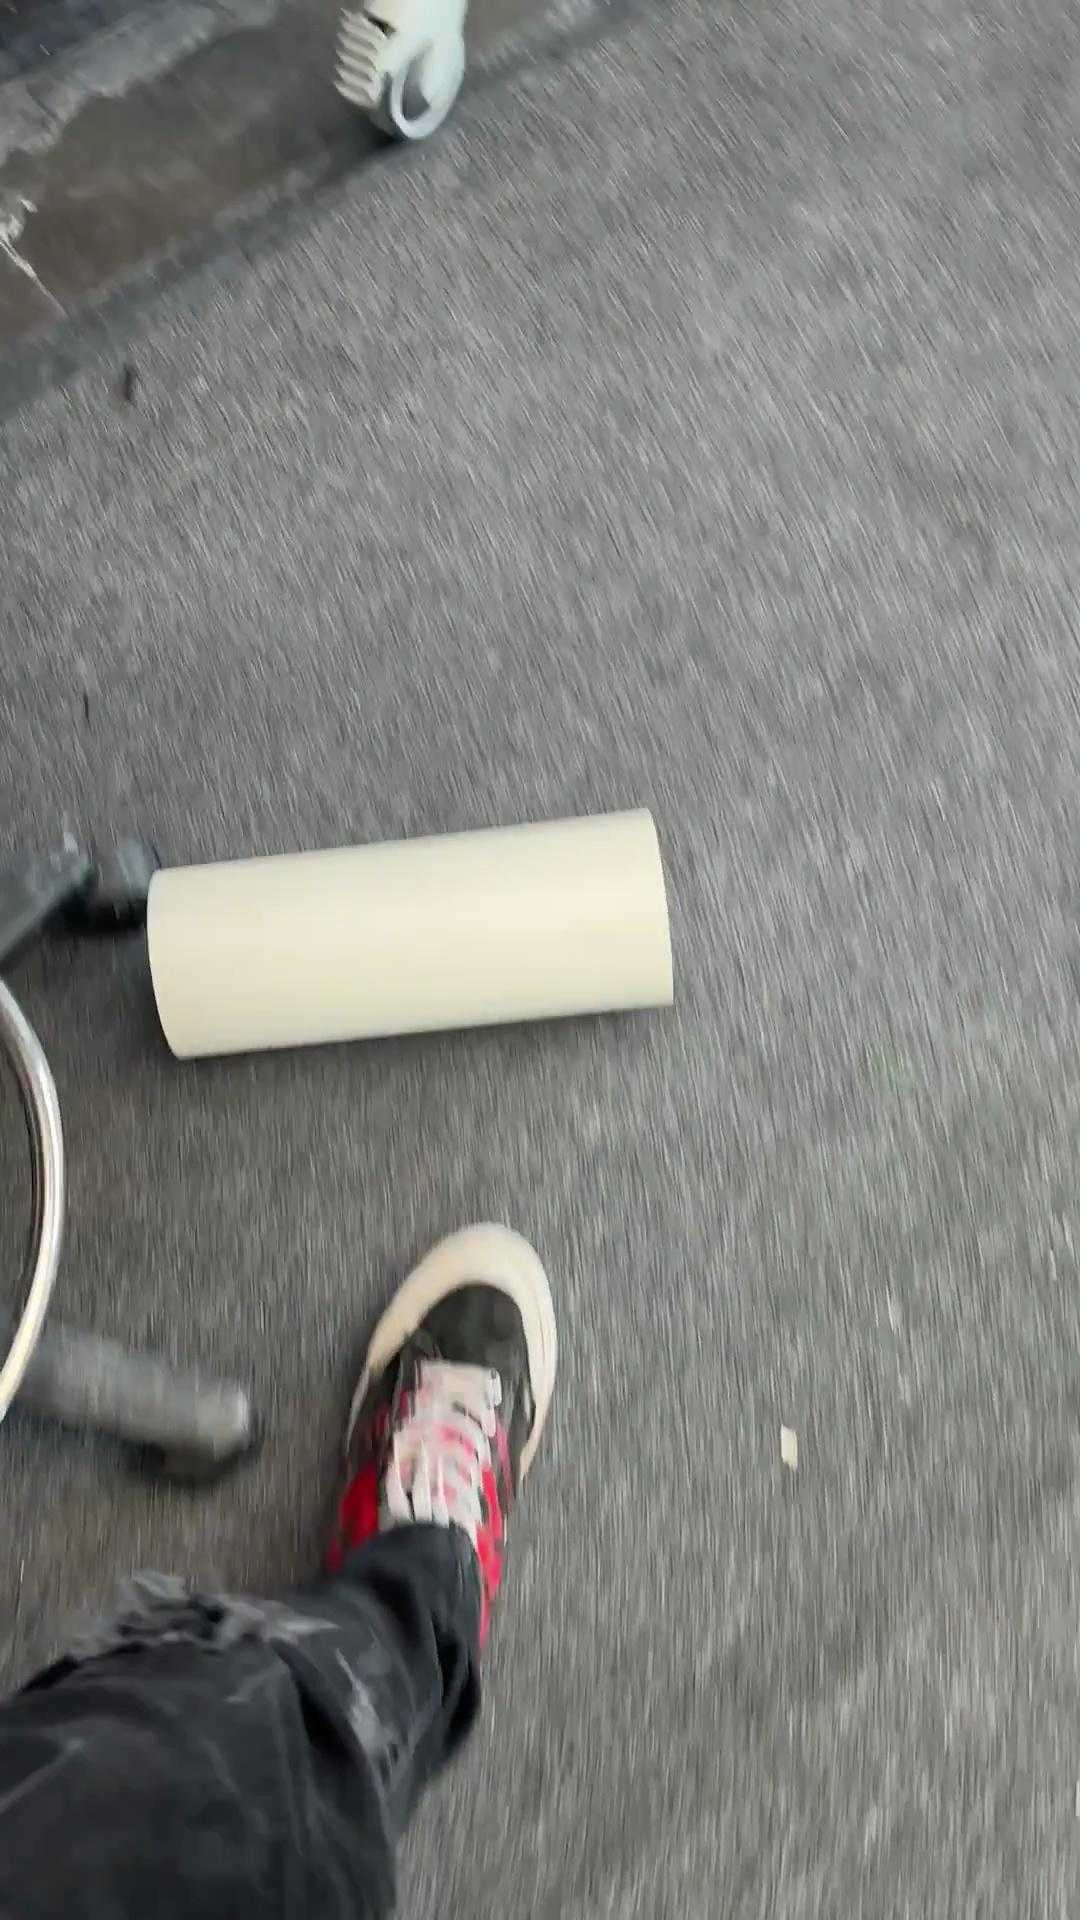CORAL: (142, 802, 676, 1062)
